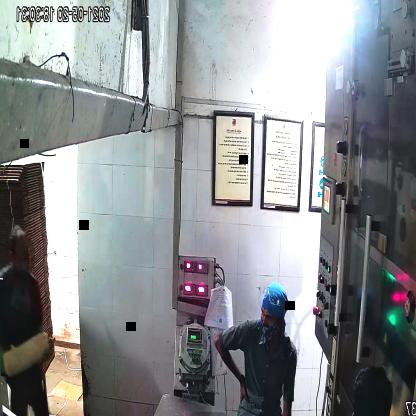no_goggles: (260, 308, 284, 327)
